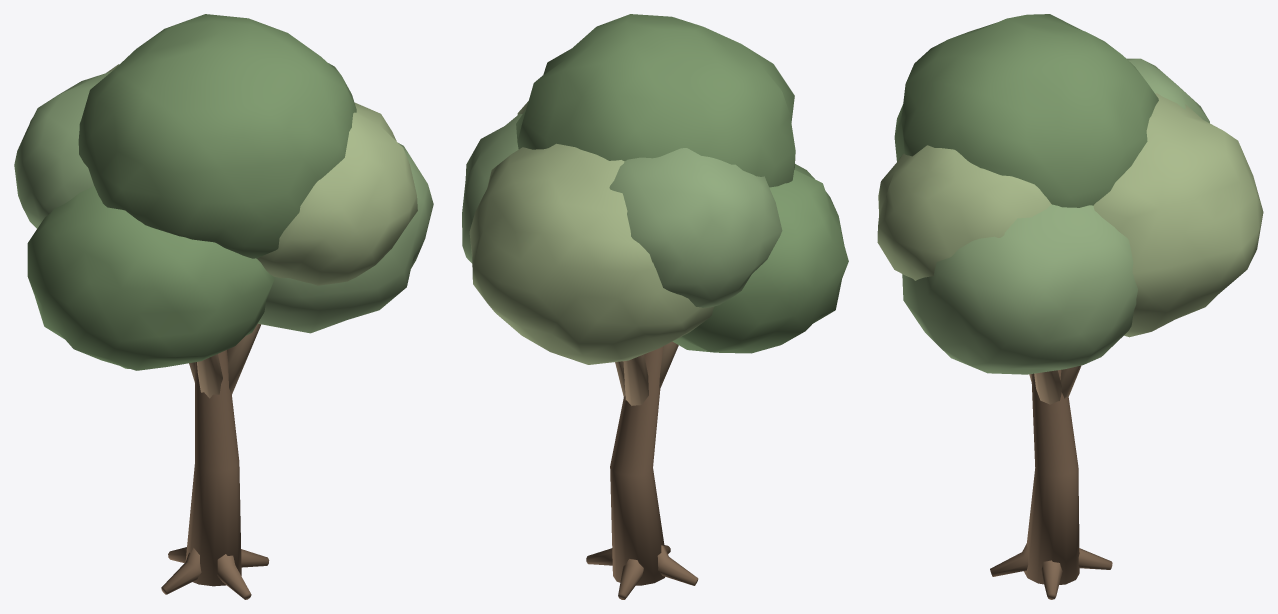
File: SM_Broadleaf_0.fbx
The picture shows the model from 3 angles, left to right: view 1: azimuth 30°, elevation 25°; view 2: azimuth 150°, elevation 25°; view 3: azimuth 270°, elevation 25°; orthographic projection. The views are drawn at different scales.
Visible parts, largest first — view 1: SM_Broadleaf_0; view 2: SM_Broadleaf_0; view 3: SM_Broadleaf_0.
Boxes of the visible parts, <box> form: SM_Broadleaf_0: <box>14,14,433,599</box>; SM_Broadleaf_0: <box>462,14,848,599</box>; SM_Broadleaf_0: <box>877,14,1263,599</box>.
Size of the model in its own units: 665 by 606 by 942.
